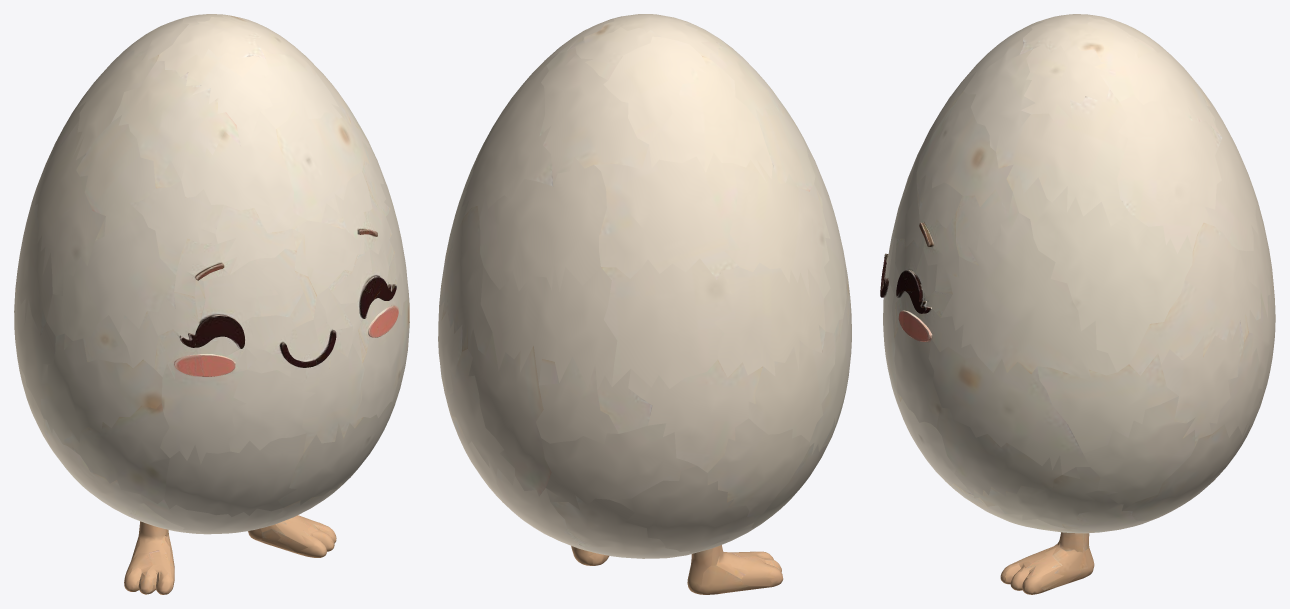
File: egg.glb
3 views of the same model, side by side, from view 1: azimuth 30°, elevation 25°; view 2: azimuth 150°, elevation 25°; view 3: azimuth 270°, elevation 25° (orthographic). The views are drawn at different scales.
Size of the model in its own units: 1.3 by 1.9 by 1.3.
1 material, 1 textured.
